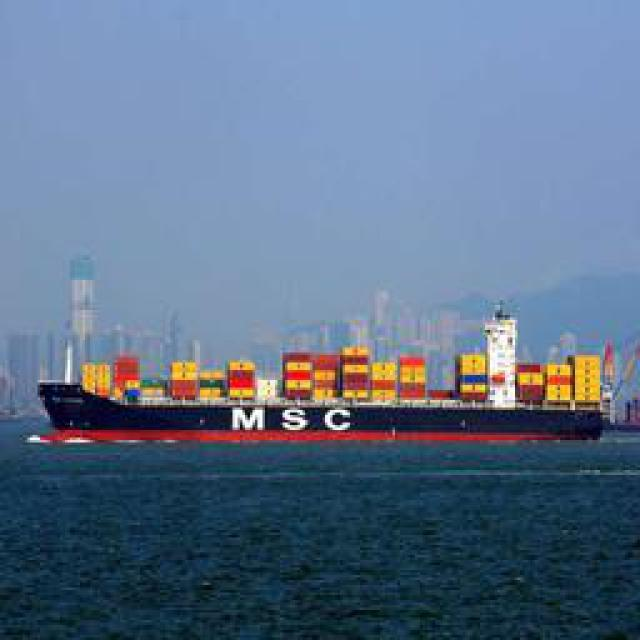Ship: (37, 328, 620, 446)
